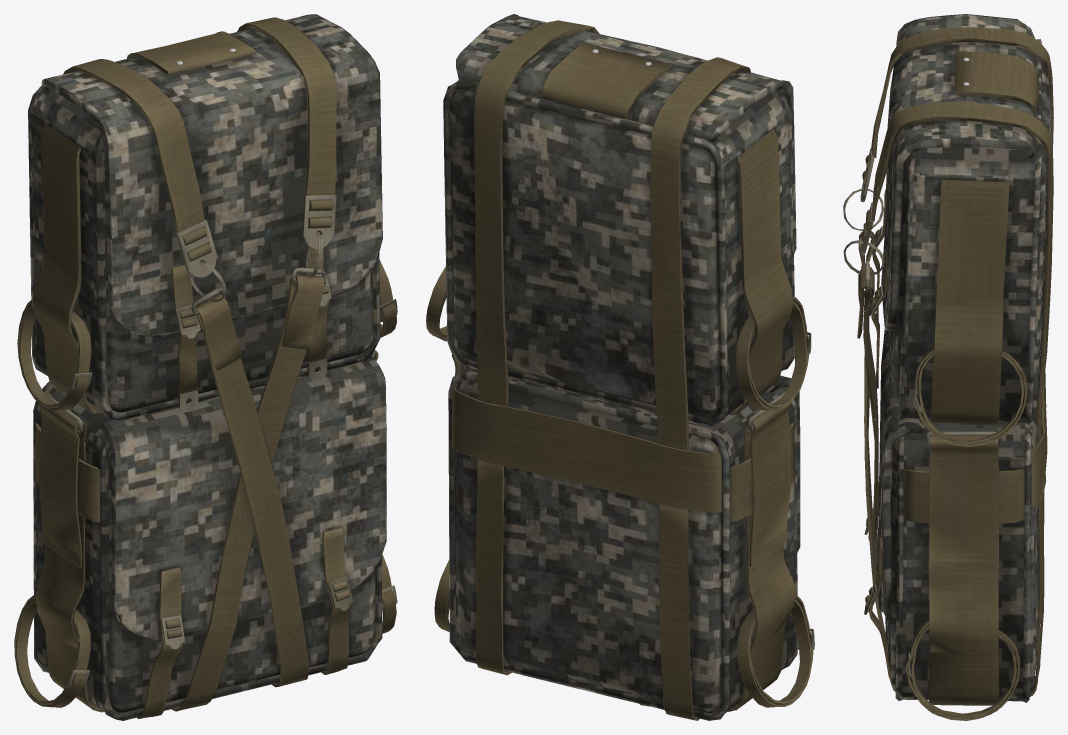
Rendered from bag_stacked_lite.glb.
3 renders of one model, left to right at view 1: azimuth 30°, elevation 25°; view 2: azimuth 150°, elevation 25°; view 3: azimuth 270°, elevation 25°, orthographic. The views are drawn at different scales.
Visible parts, largest first — view 1: cover_001_mesh.003, strap_001_mesh.006, main_001_mesh.002, buckle_001_mesh.006, ring_001_mesh, plate_001_mesh.002; view 2: main_001_mesh.002, strap_001_mesh.006, cover_001_mesh.003; view 3: strap_001_mesh.006, main_001_mesh.002, cover_001_mesh.003, buckle_001_mesh.006, ring_001_mesh.
Boxes of the visible parts, x1,y1,x2,y2 form: cover_001_mesh.003: (41, 14, 386, 639); strap_001_mesh.006: (14, 17, 396, 718); main_001_mesh.002: (28, 85, 382, 720); buckle_001_mesh.006: (66, 194, 397, 688); ring_001_mesh: (43, 233, 375, 432); plate_001_mesh.002: (178, 358, 327, 412); main_001_mesh.002: (443, 79, 797, 720); strap_001_mesh.006: (426, 20, 813, 720); cover_001_mesh.003: (456, 14, 800, 552); strap_001_mesh.006: (857, 27, 1053, 720); main_001_mesh.002: (885, 39, 1052, 702); cover_001_mesh.003: (875, 14, 1035, 612); buckle_001_mesh.006: (860, 148, 922, 677); ring_001_mesh: (843, 188, 1002, 445).
Bounding box in the file's own units: 0.8284 × 1.42 × 0.4639.
7 materials, 7 textured.
